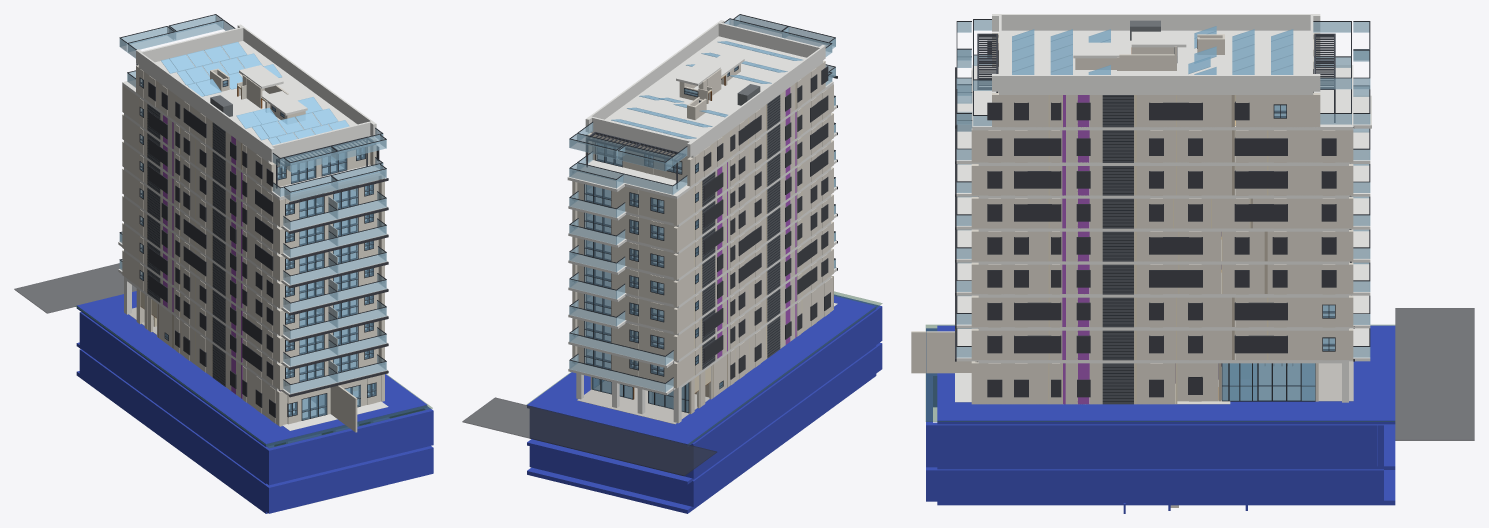
The model's file is KKL10_PetahTikva_BIM_v6_1.obj.
3 renders of one model, left to right at view 1: azimuth 30°, elevation 25°; view 2: azimuth 150°, elevation 25°; view 3: azimuth 270°, elevation 25°, orthographic. The views are drawn at different scales.
Parts seen in each view (by area): view 1: Layer_MainStructure, Layer_Basements, Layer_BalconiesRailings, Layer_FacadeOpenings, Layer_RoofParapets, Layer_SiteDatum, Layer_InteriorWalls, Layer_CoreStairsElev; view 2: Layer_MainStructure, Layer_Basements, Layer_BalconiesRailings, Layer_FacadeOpenings, Layer_RoofParapets, Layer_SiteDatum, Layer_InteriorWalls, Layer_CoreStairsElev; view 3: Layer_MainStructure, Layer_Basements, Layer_RoofParapets, Layer_BalconiesRailings, Layer_FacadeOpenings, Layer_SiteDatum, Layer_InteriorWalls, Layer_CoreStairsElev.
Part boxes in pixels (x1,y1,x2,y2): Layer_MainStructure: (122, 41, 384, 432); Layer_Basements: (76, 291, 433, 513); Layer_BalconiesRailings: (118, 14, 388, 508); Layer_FacadeOpenings: (139, 77, 376, 420); Layer_RoofParapets: (136, 24, 376, 188); Layer_SiteDatum: (14, 263, 432, 448); Layer_InteriorWalls: (139, 81, 343, 403); Layer_CoreStairsElev: (210, 65, 307, 391); Layer_MainStructure: (572, 36, 833, 424); Layer_Basements: (527, 294, 882, 513); Layer_BalconiesRailings: (567, 14, 837, 395); Layer_FacadeOpenings: (584, 65, 780, 413); Layer_RoofParapets: (585, 20, 825, 188); Layer_SiteDatum: (462, 291, 882, 476); Layer_InteriorWalls: (632, 74, 802, 399); Layer_CoreStairsElev: (676, 53, 744, 119); Layer_MainStructure: (911, 30, 1353, 507); Layer_Basements: (926, 325, 1395, 513); Layer_RoofParapets: (977, 14, 1335, 122); Layer_BalconiesRailings: (955, 19, 1371, 402); Layer_FacadeOpenings: (977, 38, 1335, 404); Layer_SiteDatum: (925, 308, 1474, 440); Layer_InteriorWalls: (1048, 47, 1293, 404); Layer_CoreStairsElev: (1073, 31, 1224, 383).
Bounding box in the file's own units: 27 × 41.5 × 48.85.
